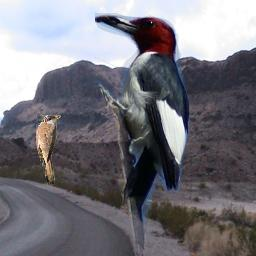Cuckoo: (36, 115, 61, 185)
Woodpecker: (95, 13, 190, 253)
